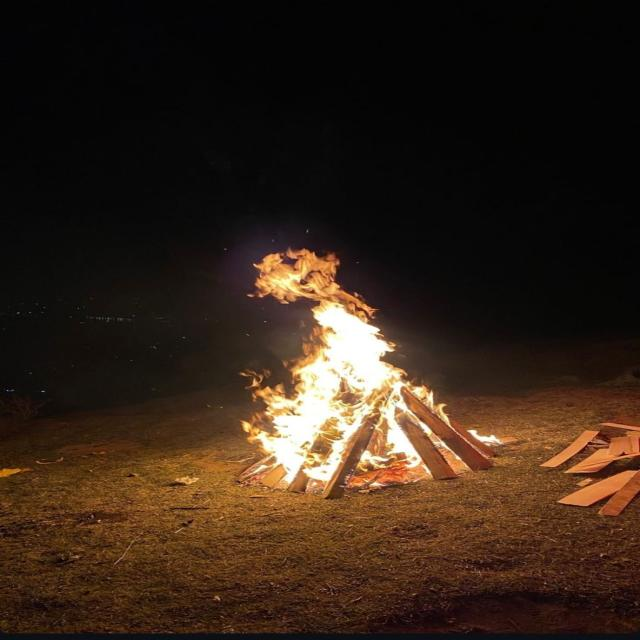fire: (241, 249, 423, 482)
